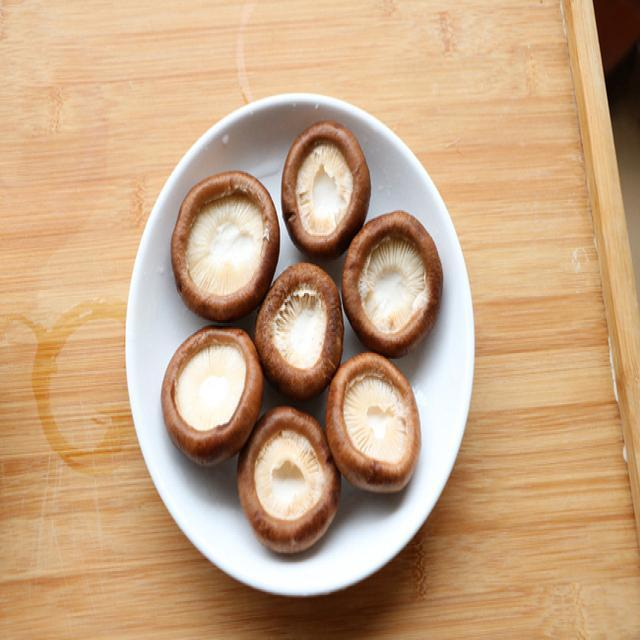Lentinus edodes: (172, 171, 280, 324), (243, 409, 339, 554), (162, 325, 261, 462), (344, 211, 441, 350), (327, 357, 421, 494), (282, 123, 371, 257), (259, 263, 345, 397)
